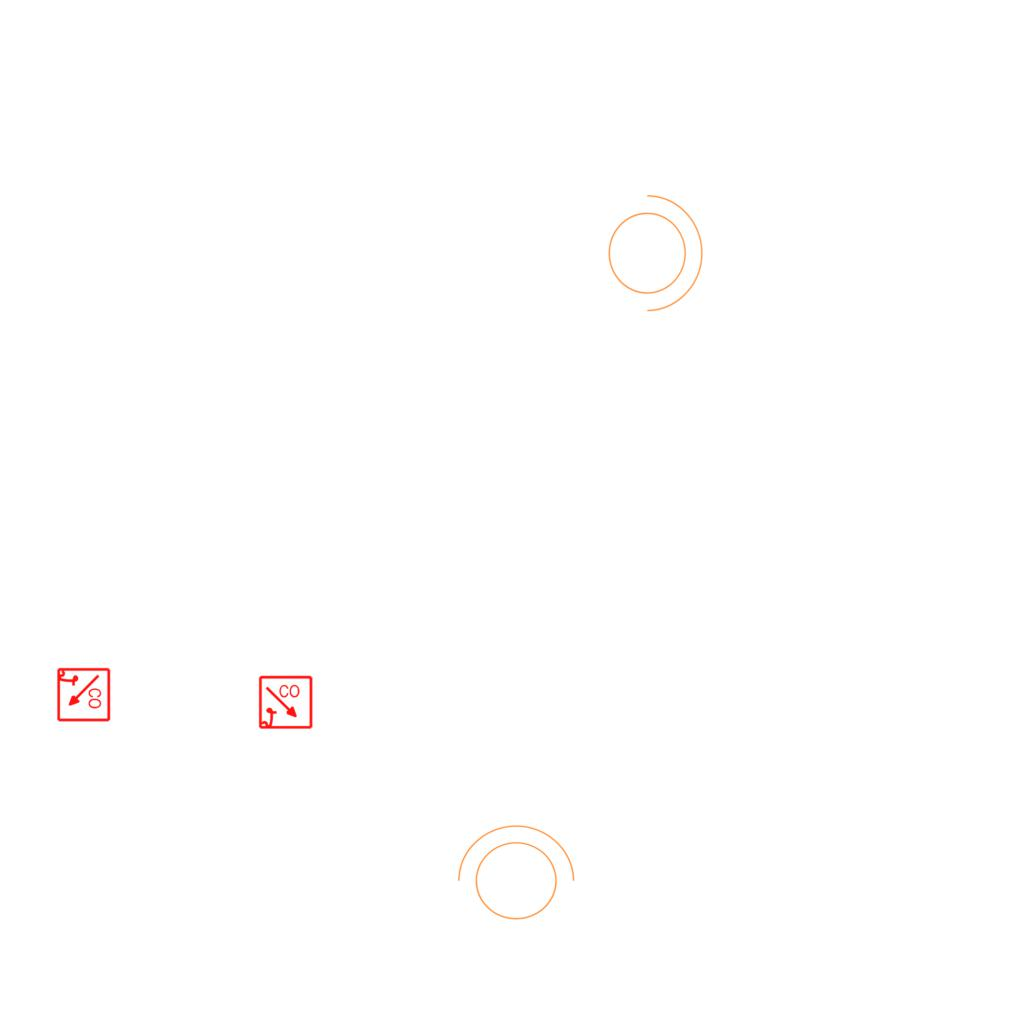ROA_Rauchmelder_optisch_mit_Signalgeber_(Sockelsirene): (258, 675, 314, 731), (55, 667, 111, 723)
Scheinwerfer_fuer_Alarmbeleuchtung: (596, 184, 708, 316), (447, 820, 579, 932)
